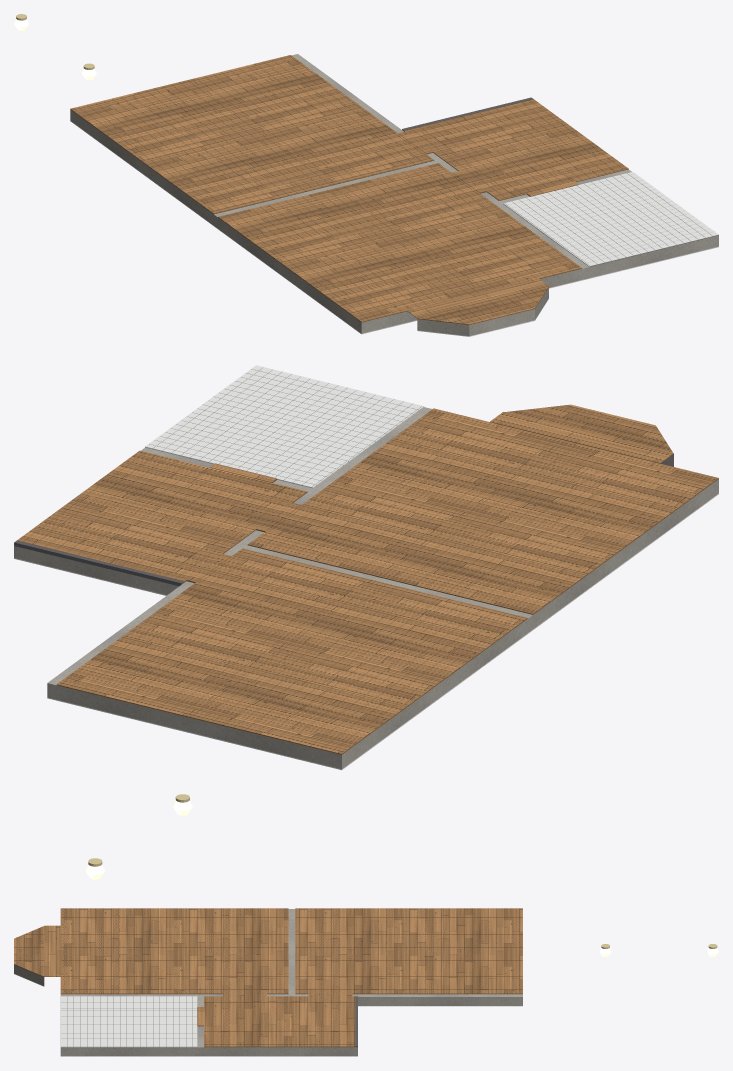
The model's file is slab_1_r.glb.
3 views of the same model, one above another, from view 1: azimuth 30°, elevation 25°; view 2: azimuth 150°, elevation 25°; view 3: azimuth 270°, elevation 25° (orthographic). The views are drawn at different scales.
Parts seen in each view (by area): view 1: slab_1_r_wood, slab_1_r_tile_hex, slab_1_r_conc_s, slab_1_r_ceil, slab_1_r_grille; view 2: slab_1_r_wood, slab_1_r_tile_hex, slab_1_r_conc_s, slab_1_r_ceil, slab_1_r_grille, slab_1_r_dark; view 3: slab_1_r_wood, slab_1_r_tile_hex, slab_1_r_conc_s, slab_1_r_grille, slab_1_r_ceil.
Boxes of the visible parts, box(x1,y1,x2,y2) form: slab_1_r_wood: box(70, 55, 628, 324); slab_1_r_tile_hex: box(503, 172, 718, 266); slab_1_r_conc_s: box(70, 54, 718, 335); slab_1_r_ceil: box(70, 121, 718, 336); slab_1_r_grille: box(507, 177, 718, 266); slab_1_r_wood: box(14, 404, 718, 754); slab_1_r_tile_hex: box(145, 365, 424, 488); slab_1_r_conc_s: box(14, 407, 718, 769); slab_1_r_ceil: box(14, 493, 718, 770); slab_1_r_grille: box(153, 369, 421, 487); slab_1_r_dark: box(14, 541, 183, 586); slab_1_r_wood: box(14, 908, 522, 1047); slab_1_r_tile_hex: box(61, 996, 197, 1047); slab_1_r_conc_s: box(14, 909, 522, 1055); slab_1_r_grille: box(67, 997, 192, 1046); slab_1_r_ceil: box(14, 973, 522, 1056).
Size of the model in its own units: 5.95 by 1.07 by 12.81.
10 materials, 4 textured.
